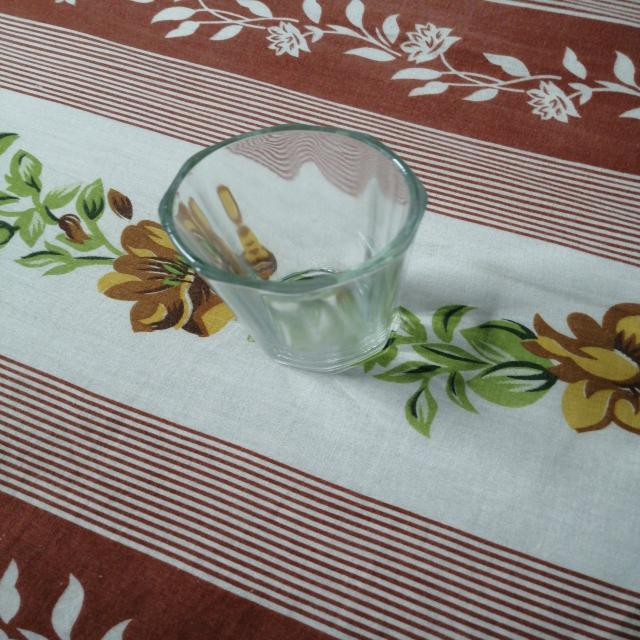Glass: (154, 120, 431, 376)
